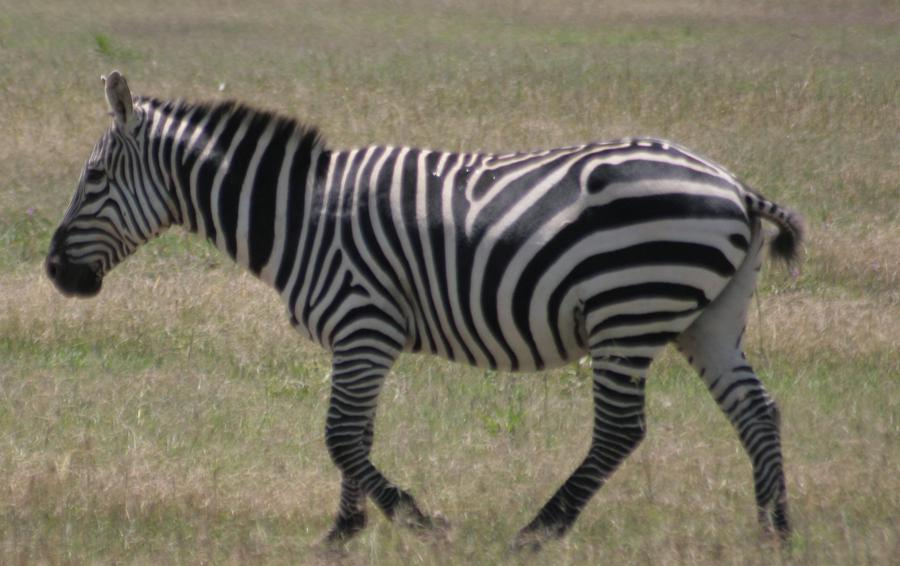zebra_plains: (275, 113, 694, 392)
